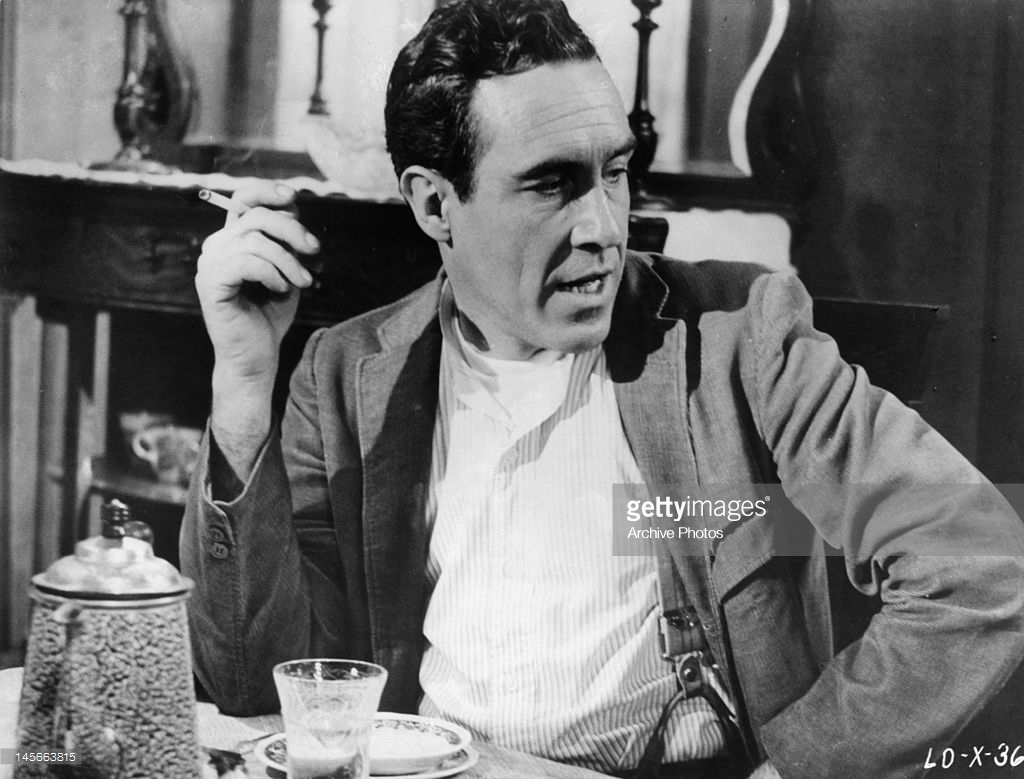cigarette: (196, 194, 256, 219)
